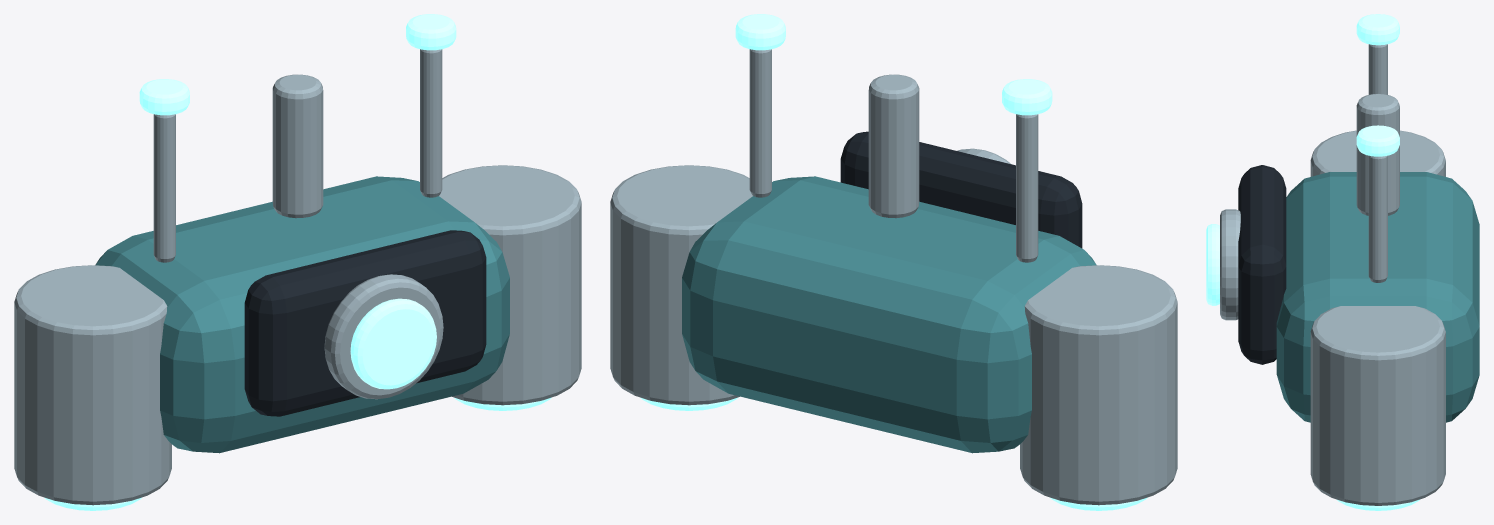
The model's file is SM_EnemyScout.fbx.
3 views of the same model, side by side, from view 1: azimuth 30°, elevation 25°; view 2: azimuth 150°, elevation 25°; view 3: azimuth 270°, elevation 25° (orthographic). The views are drawn at different scales.
Parts seen in each view (by area): view 1: SM_EnemyScout; view 2: SM_EnemyScout; view 3: SM_EnemyScout.
Boxes of the visible parts, box(x1,y1,x2,y2) form: SM_EnemyScout: box(14, 14, 581, 510); SM_EnemyScout: box(610, 14, 1177, 510); SM_EnemyScout: box(1206, 14, 1479, 510).
Bounding box in the file's own units: 112 × 56.6 × 75.5.
